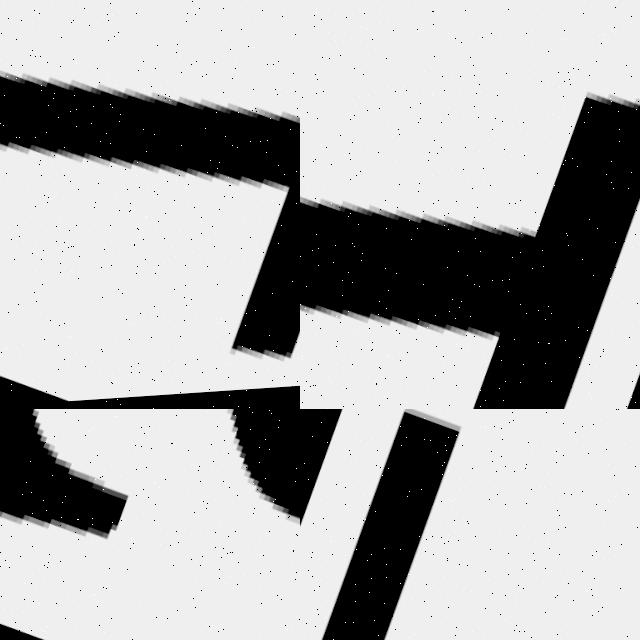L: (300, 409, 640, 640)
S: (0, 409, 300, 640)
T: (300, 0, 640, 409), (0, 0, 300, 409)
